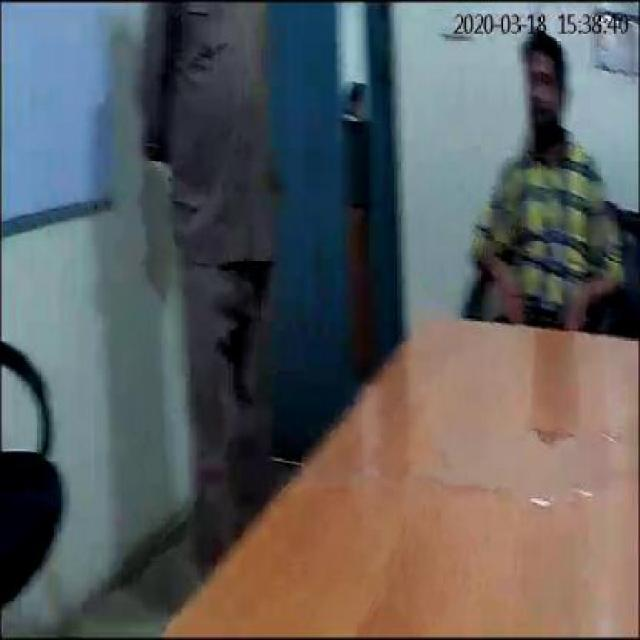spill: (426, 426, 620, 520)
